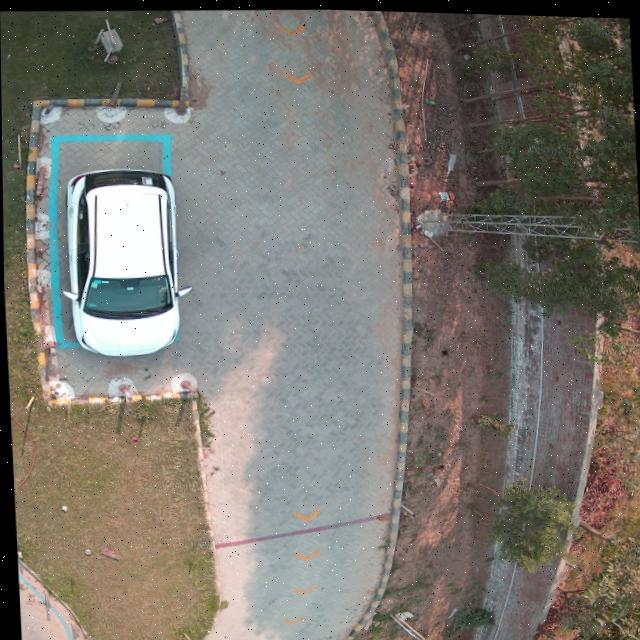car: (61, 167, 187, 355)
